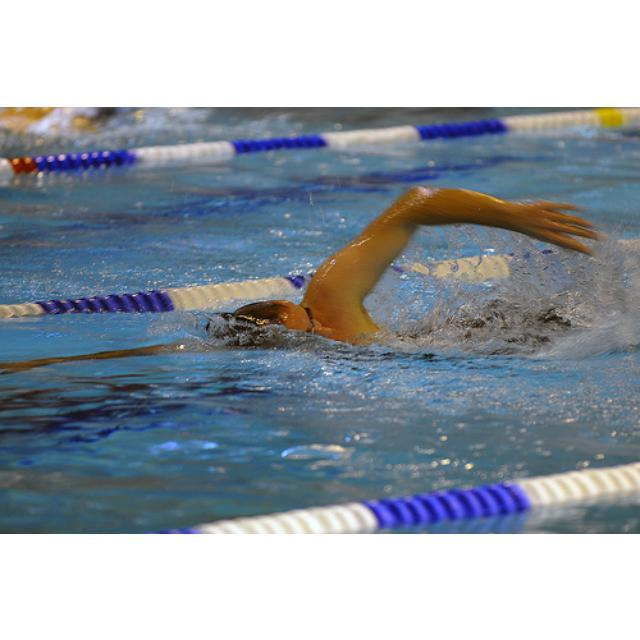human: (211, 184, 606, 384)
